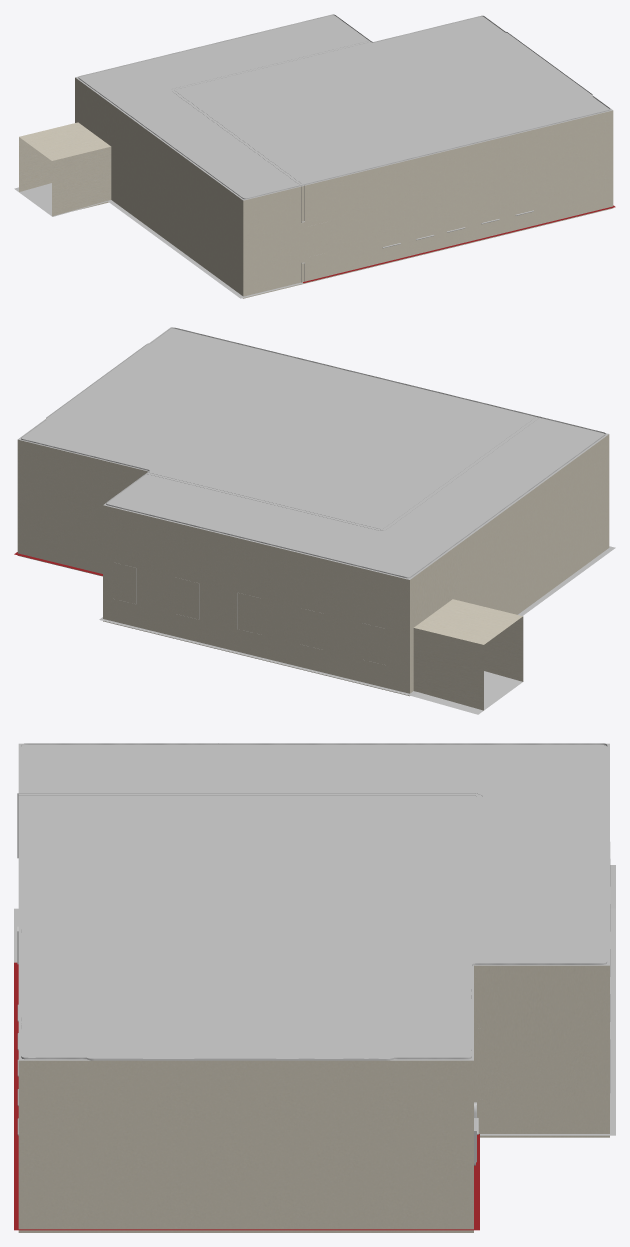
File: Cyber Showroom.fbx
3 renders of one model, top to bottom at view 1: azimuth 30°, elevation 25°; view 2: azimuth 150°, elevation 25°; view 3: azimuth 270°, elevation 25°, orthographic. The views are drawn at different scales.
Visible parts, largest first — view 1: Baked.014; view 2: Baked.014; view 3: Baked.014.
Part boxes in pixels (box(x1,y1,x2,y2)): Baked.014: box(14, 14, 615, 298); Baked.014: box(14, 327, 615, 714); Baked.014: box(14, 743, 615, 1232).
Size of the model in its own units: 1495 by 329 by 1031.
